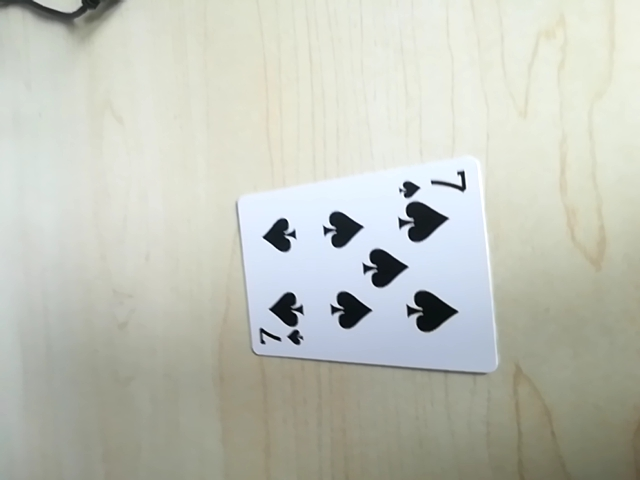ht 7: (397, 166, 471, 197), (251, 320, 308, 353)
